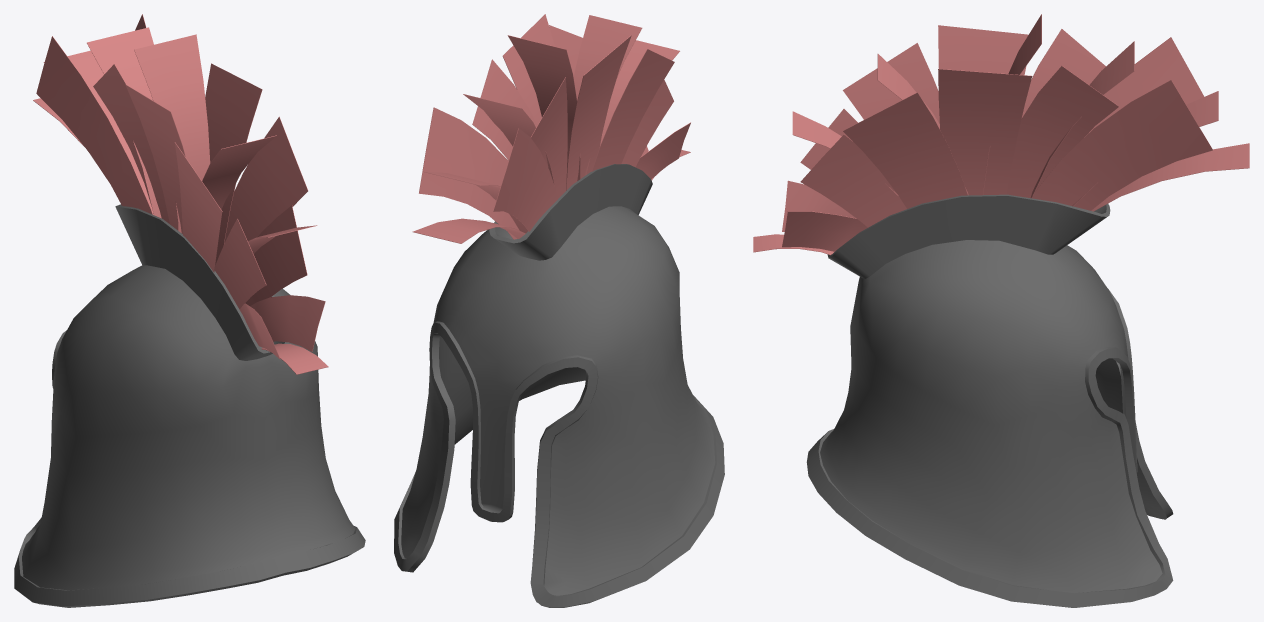
The model's file is helmet.glb.
3 renders of one model, left to right at view 1: azimuth 30°, elevation 25°; view 2: azimuth 150°, elevation 25°; view 3: azimuth 270°, elevation 25°, orthographic. The views are drawn at different scales.
Parts seen in each view (by area): view 1: Metall_Low, Fur_planes; view 2: Metall_Low, Fur_planes; view 3: Metall_Low, Fur_planes.
Part boxes in pixels (x1,y1,x2,y2): Metall_Low: [14, 204, 365, 607]; Fur_planes: [33, 14, 328, 374]; Metall_Low: [394, 164, 724, 607]; Fur_planes: [412, 14, 690, 243]; Metall_Low: [806, 194, 1173, 607]; Fur_planes: [753, 14, 1249, 255].
Size of the model in its own units: 83.9 by 146 by 125.
